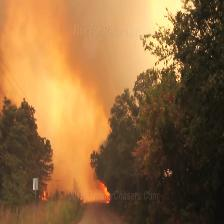fire: (91, 181, 115, 211)
smoke: (0, 0, 147, 217)
